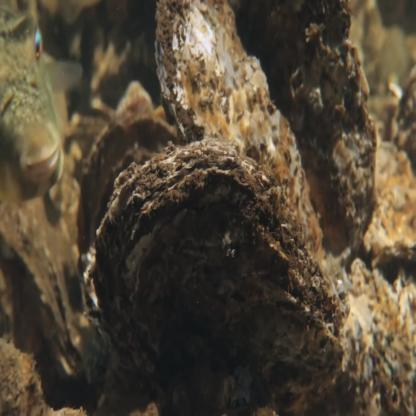3: (75, 114, 183, 276)
Oyster-Closed: (87, 140, 349, 387), (159, 0, 324, 253), (224, 0, 379, 243)
Oyster-Open: (0, 196, 103, 377)
